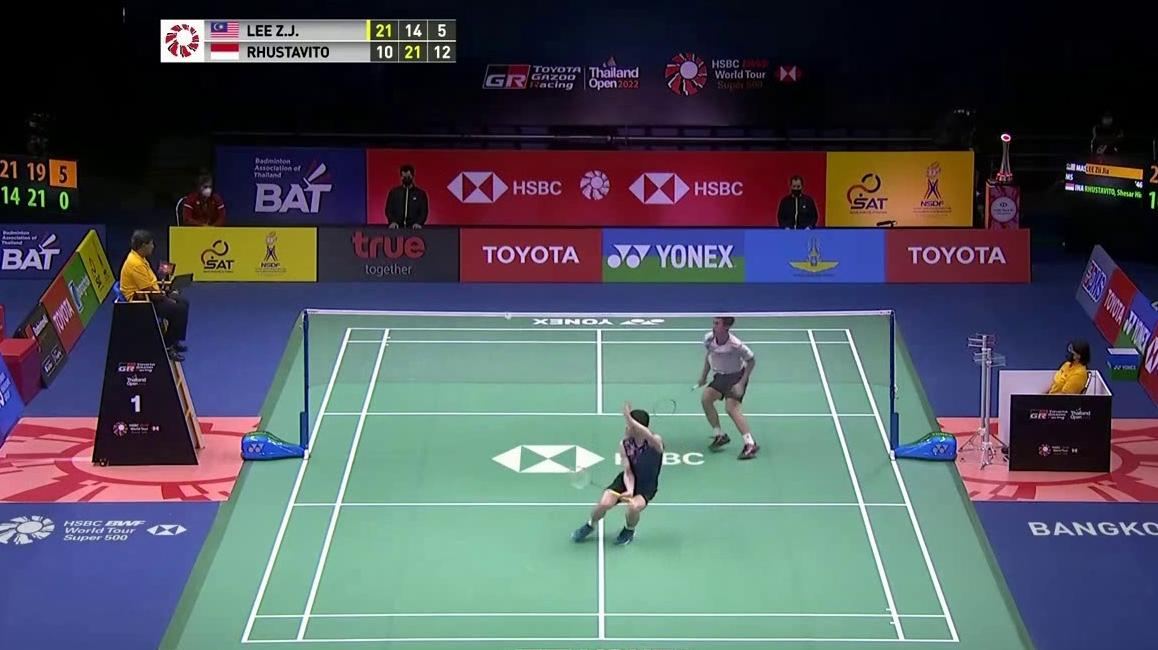racket: (567, 463, 637, 505), (652, 375, 707, 421)
shuttle: (503, 310, 514, 322)
